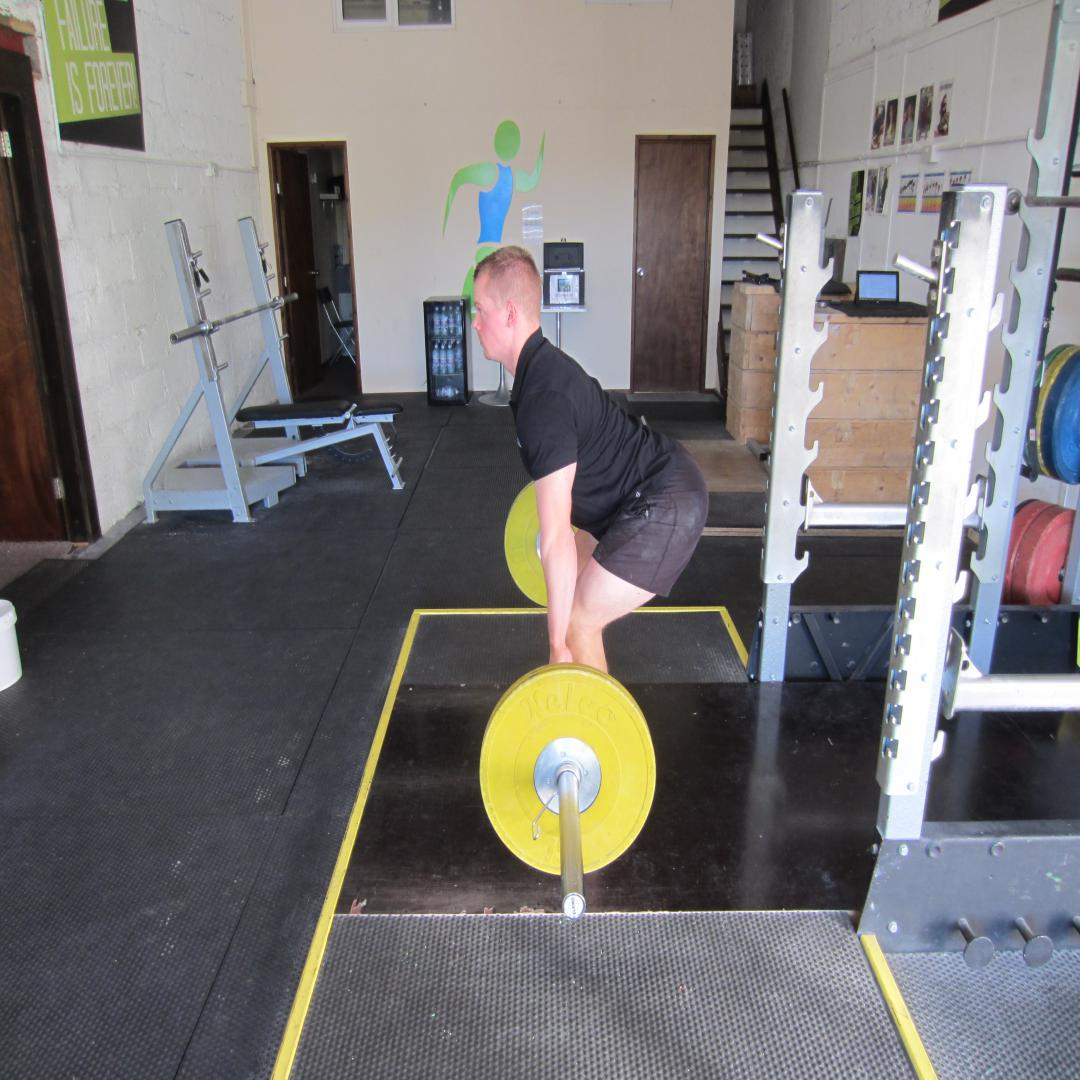Bar: (561, 890, 587, 922)
Barbell: (480, 667, 654, 875)
